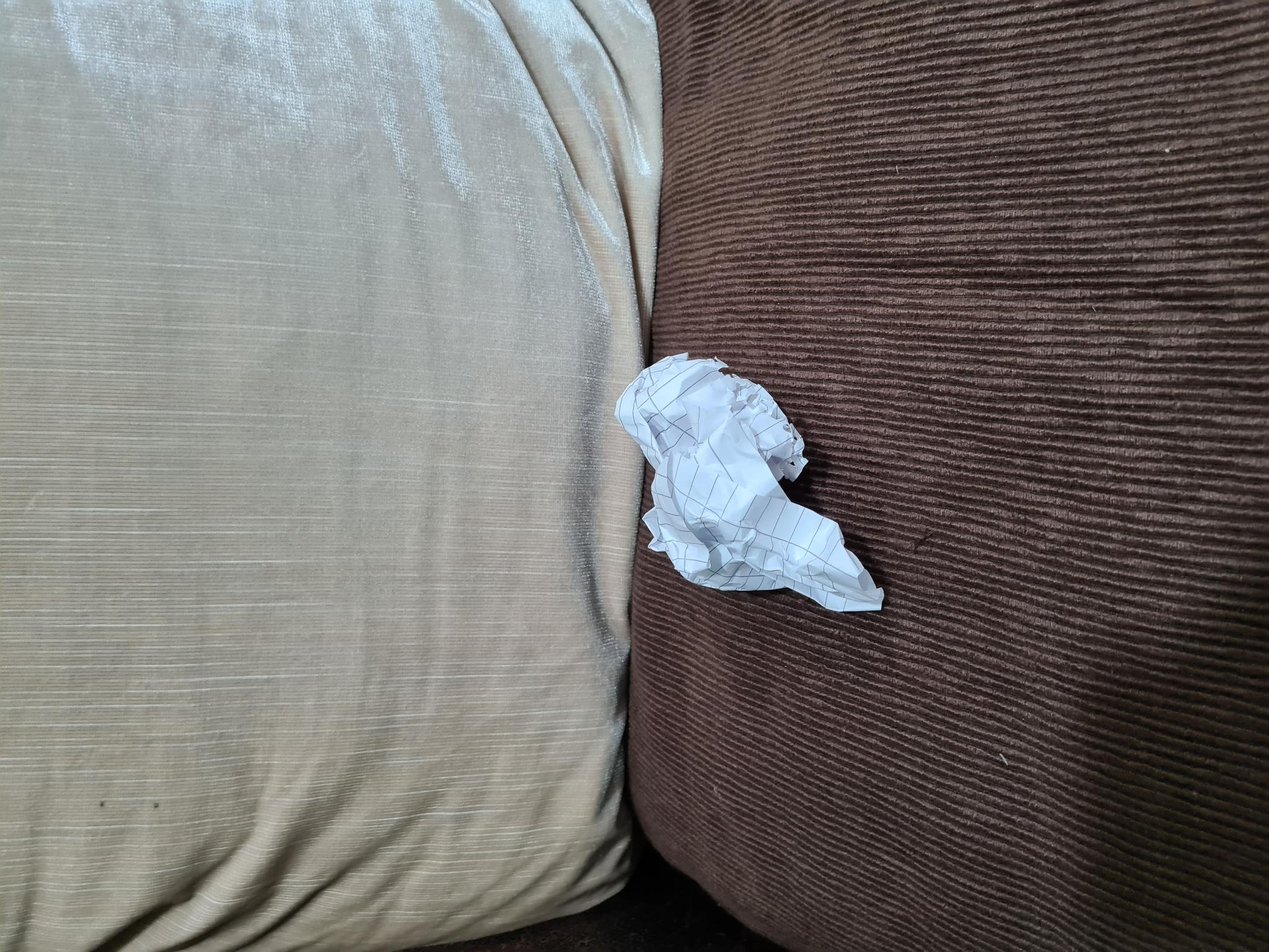Kertas: (337, 600, 606, 895)
